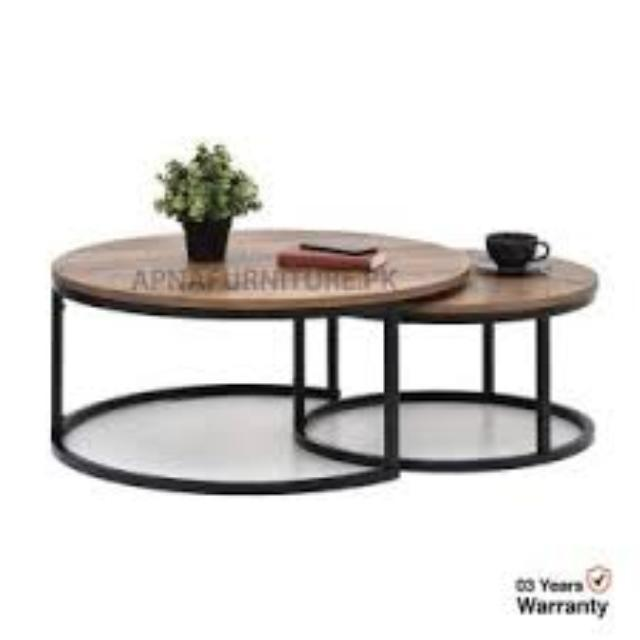obstacle: (54, 120, 616, 542)
